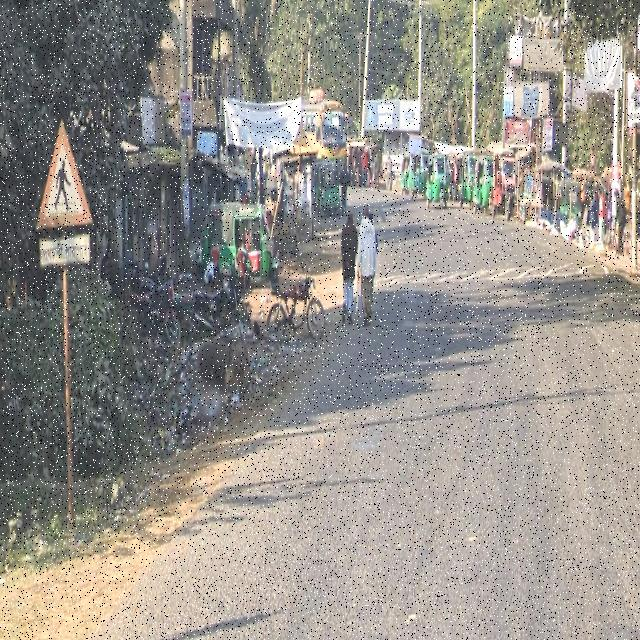Pedestrian-crossing: (27, 106, 107, 281)
